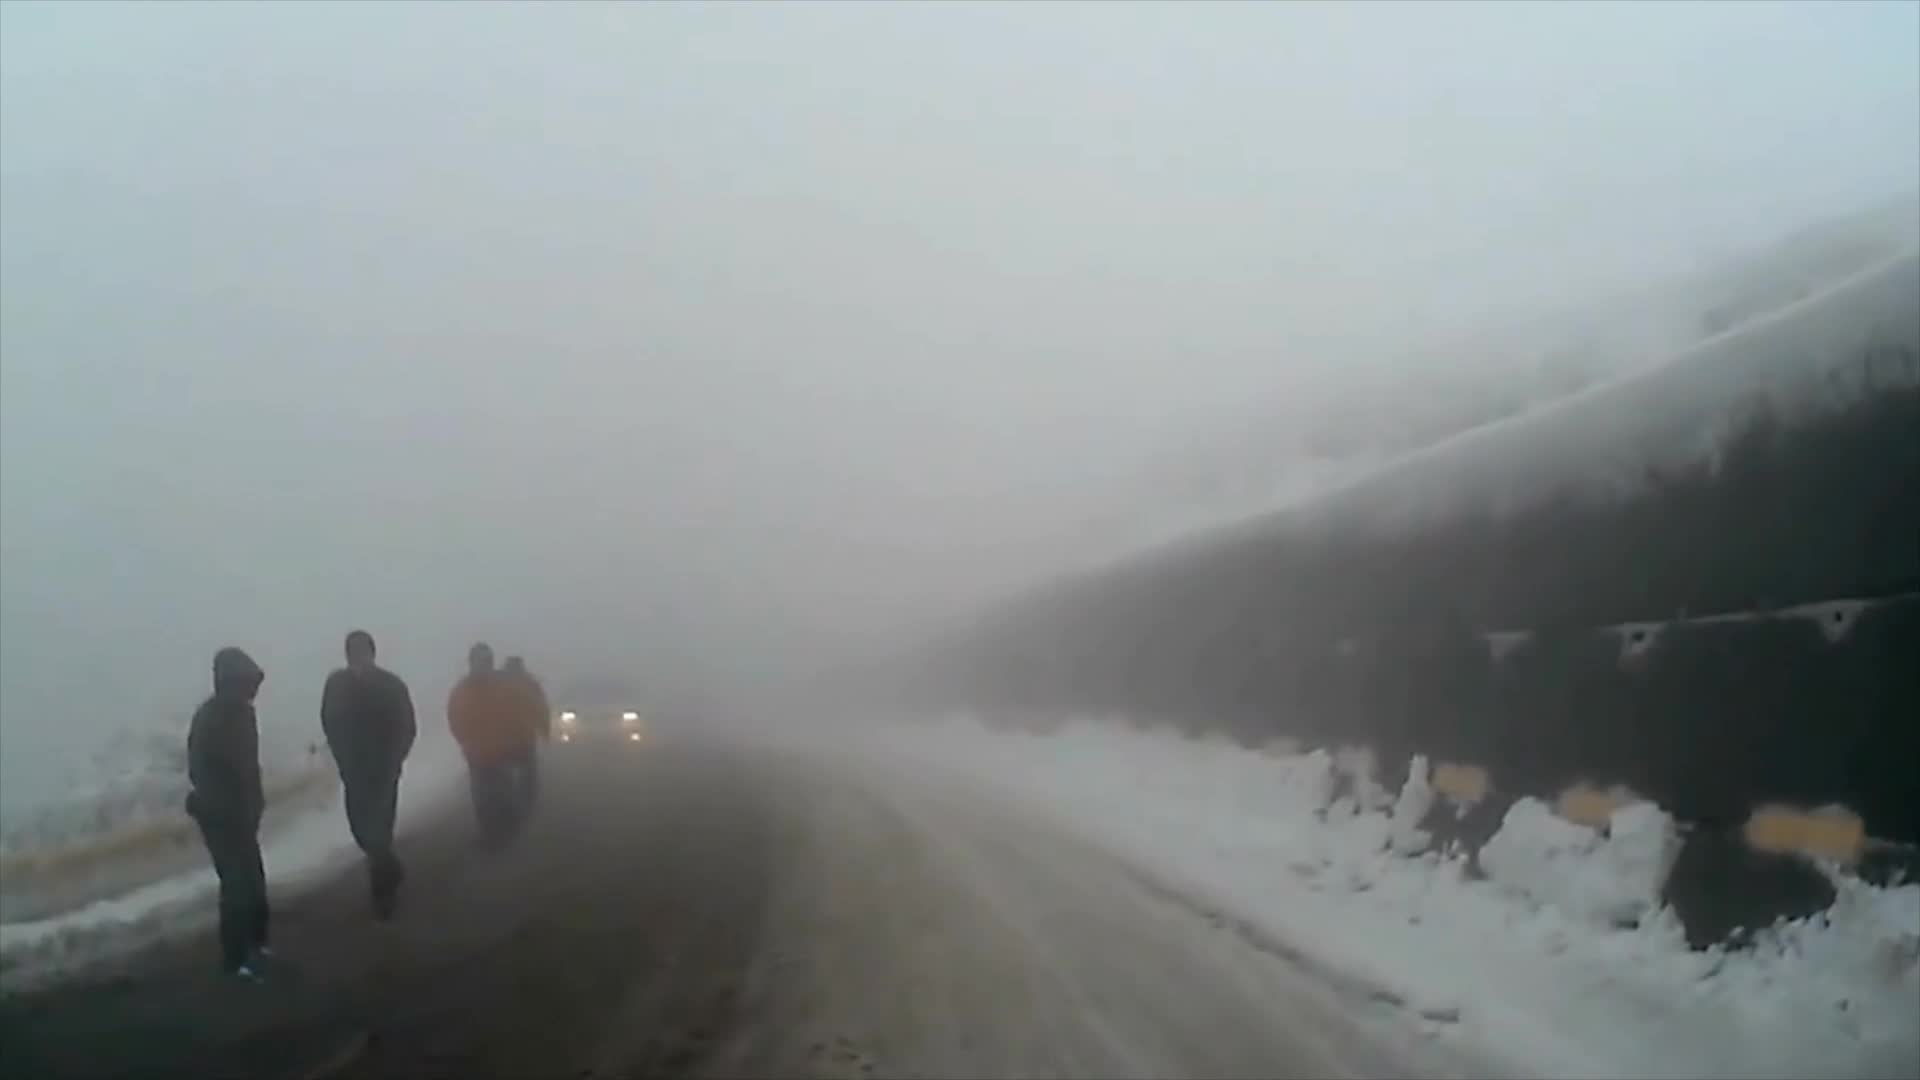pedestrian: (179, 647, 279, 982), (318, 628, 421, 923), (445, 643, 541, 857)
vehicle: (551, 677, 647, 765)
